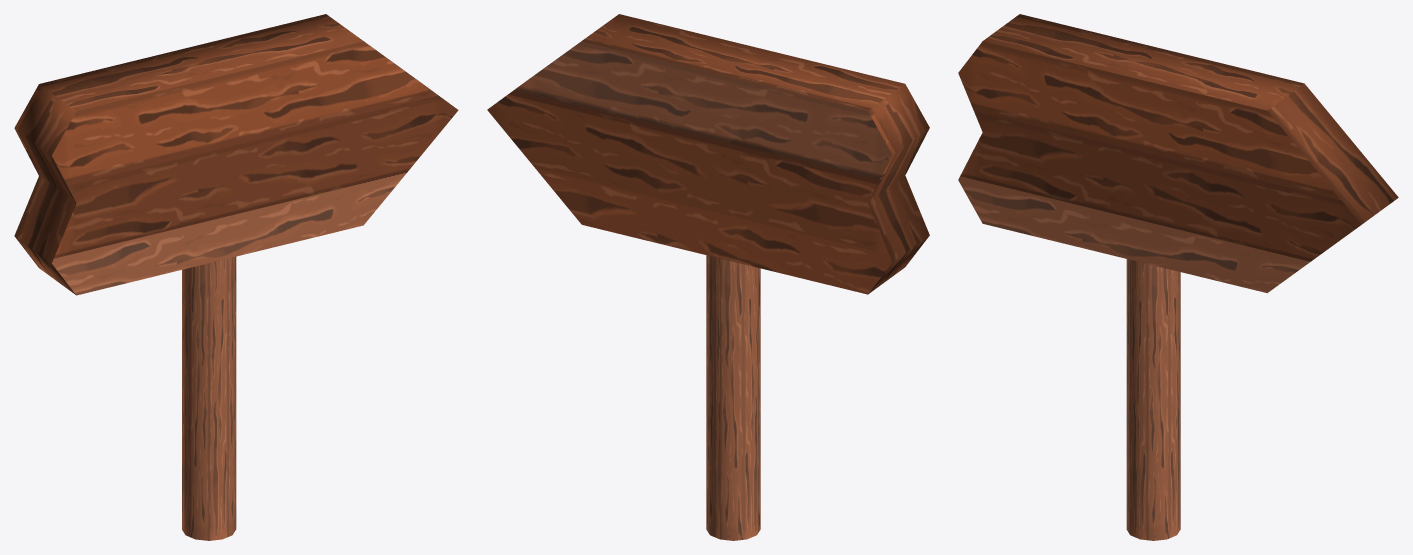
The model's file is RoadSign.fbx.
3 renders of one model, left to right at view 1: azimuth 30°, elevation 25°; view 2: azimuth 150°, elevation 25°; view 3: azimuth 330°, elevation 25°, orthographic.
Visible parts, largest first — view 1: RoadSign_Base; view 2: RoadSign_Base; view 3: RoadSign_Base.
Boxes of the visible parts, bbox=[...] form: RoadSign_Base: bbox=[14, 14, 458, 540]; RoadSign_Base: bbox=[487, 14, 929, 540]; RoadSign_Base: bbox=[958, 14, 1398, 540].
Size of the model in its own units: 2.25 by 2.48 by 0.3585.
